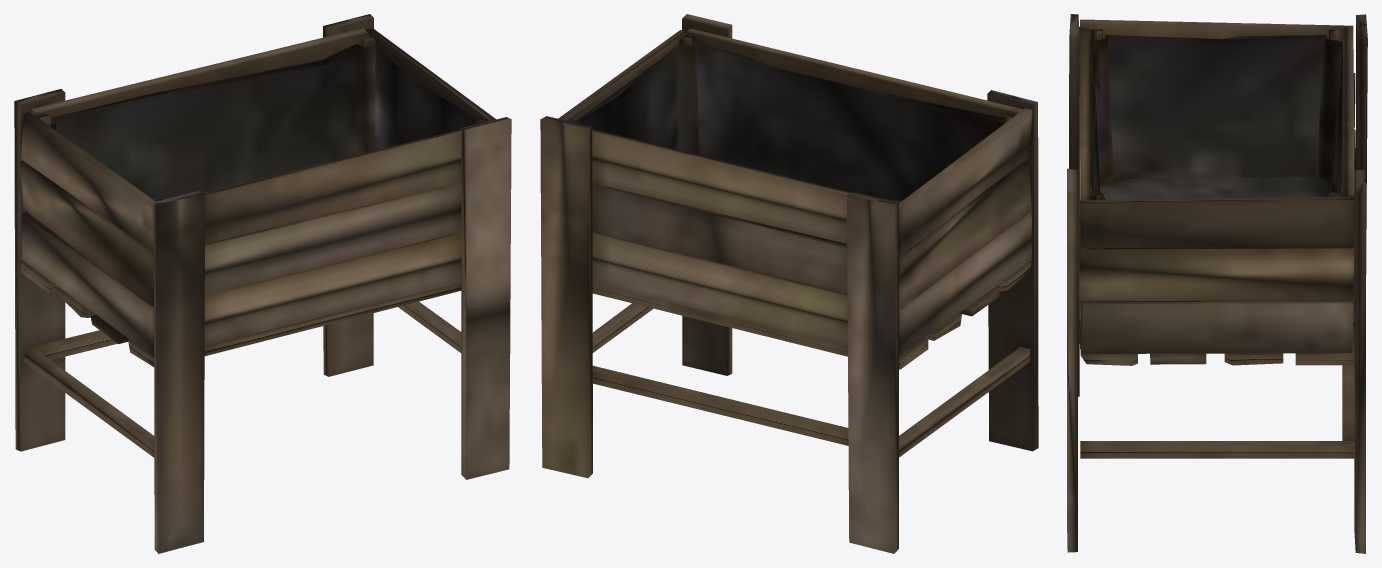
File: jardiniere_haute_bois_lod2.glb
3 renders of one model, left to right at view 1: azimuth 30°, elevation 25°; view 2: azimuth 150°, elevation 25°; view 3: azimuth 270°, elevation 25°, orthographic. The views are drawn at different scales.
Visible parts, largest first — view 1: planter_box_03; view 2: planter_box_03; view 3: planter_box_03.
Part boxes in pixels (<box>): planter_box_03: <box>14,14,511,553</box>; planter_box_03: <box>540,14,1038,553</box>; planter_box_03: <box>1067,14,1367,553</box>.
Size of the model in its own units: 0.9099 by 0.8541 by 0.6429.
1 material, 1 textured.
